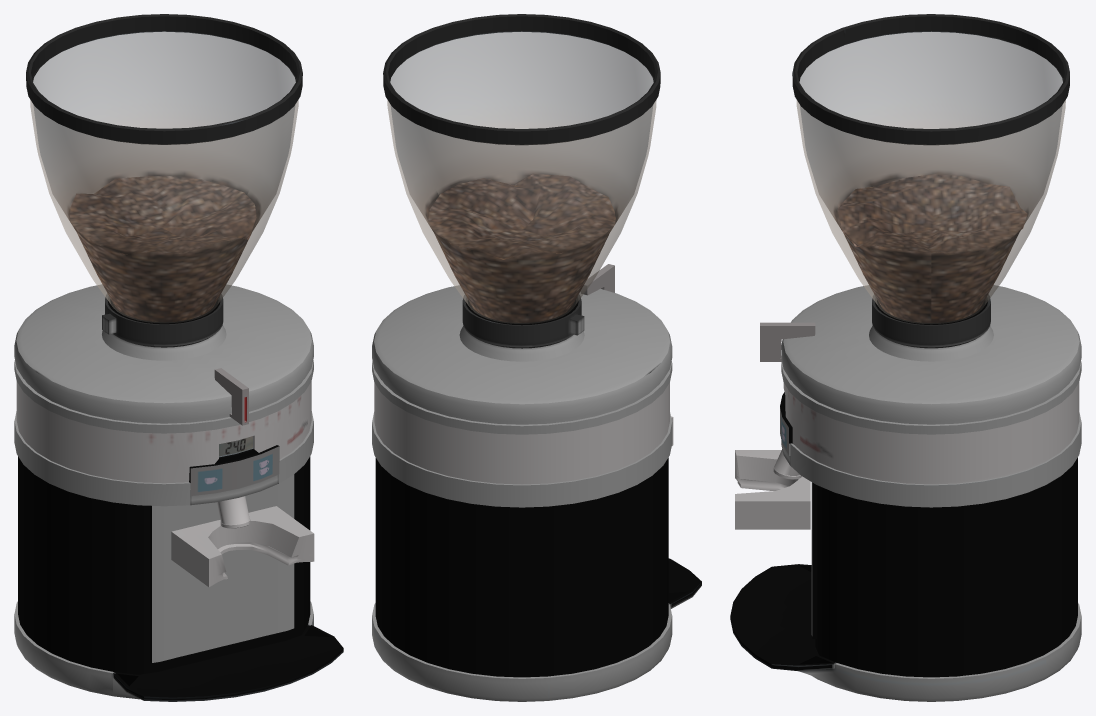
The model's file is grinder.glb.
3 views of the same model, side by side, from view 1: azimuth 30°, elevation 25°; view 2: azimuth 150°, elevation 25°; view 3: azimuth 270°, elevation 25° (orthographic).
Visible parts, largest first — view 1: beans_1_Mat_0; view 2: beans_1_Mat_0; view 3: beans_1_Mat_0.
Part boxes in pixels (<box>): beans_1_Mat_0: <box>14,14,343,701</box>; beans_1_Mat_0: <box>372,14,701,701</box>; beans_1_Mat_0: <box>730,14,1081,701</box>.
Size of the model in its own units: 0.2389 by 0.5 by 0.2793.
2 materials, 2 textured.
